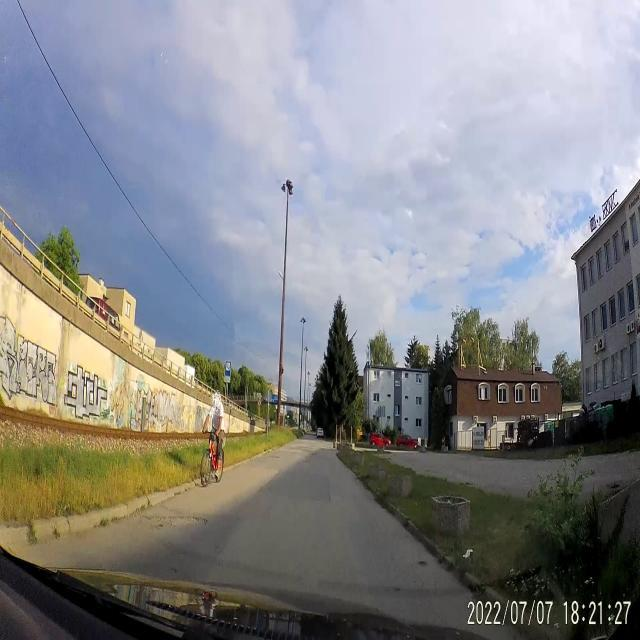Pothole: (146, 505, 210, 535), (414, 553, 431, 570)
